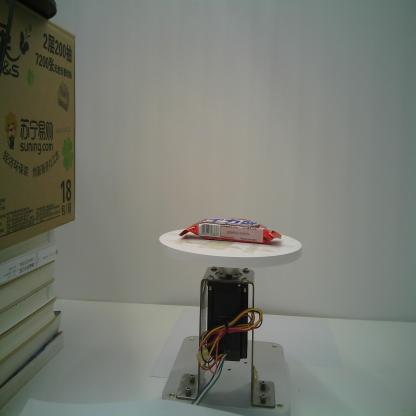Chocolate: (179, 218, 282, 244)
